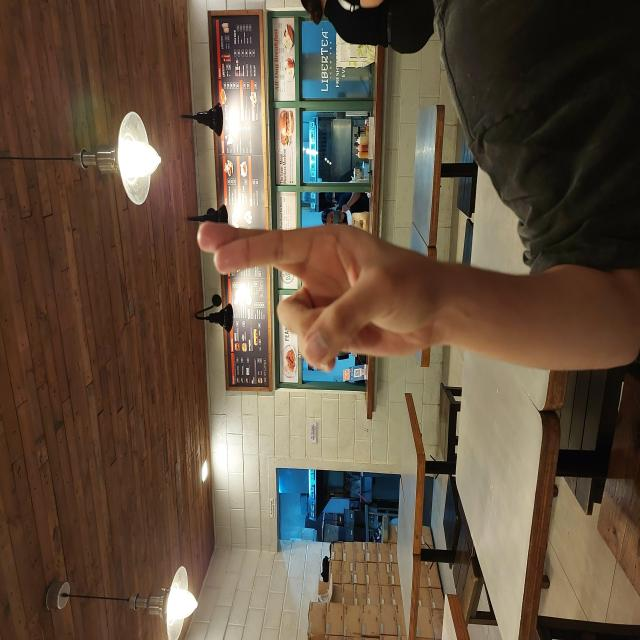R: (265, 195, 418, 433)
